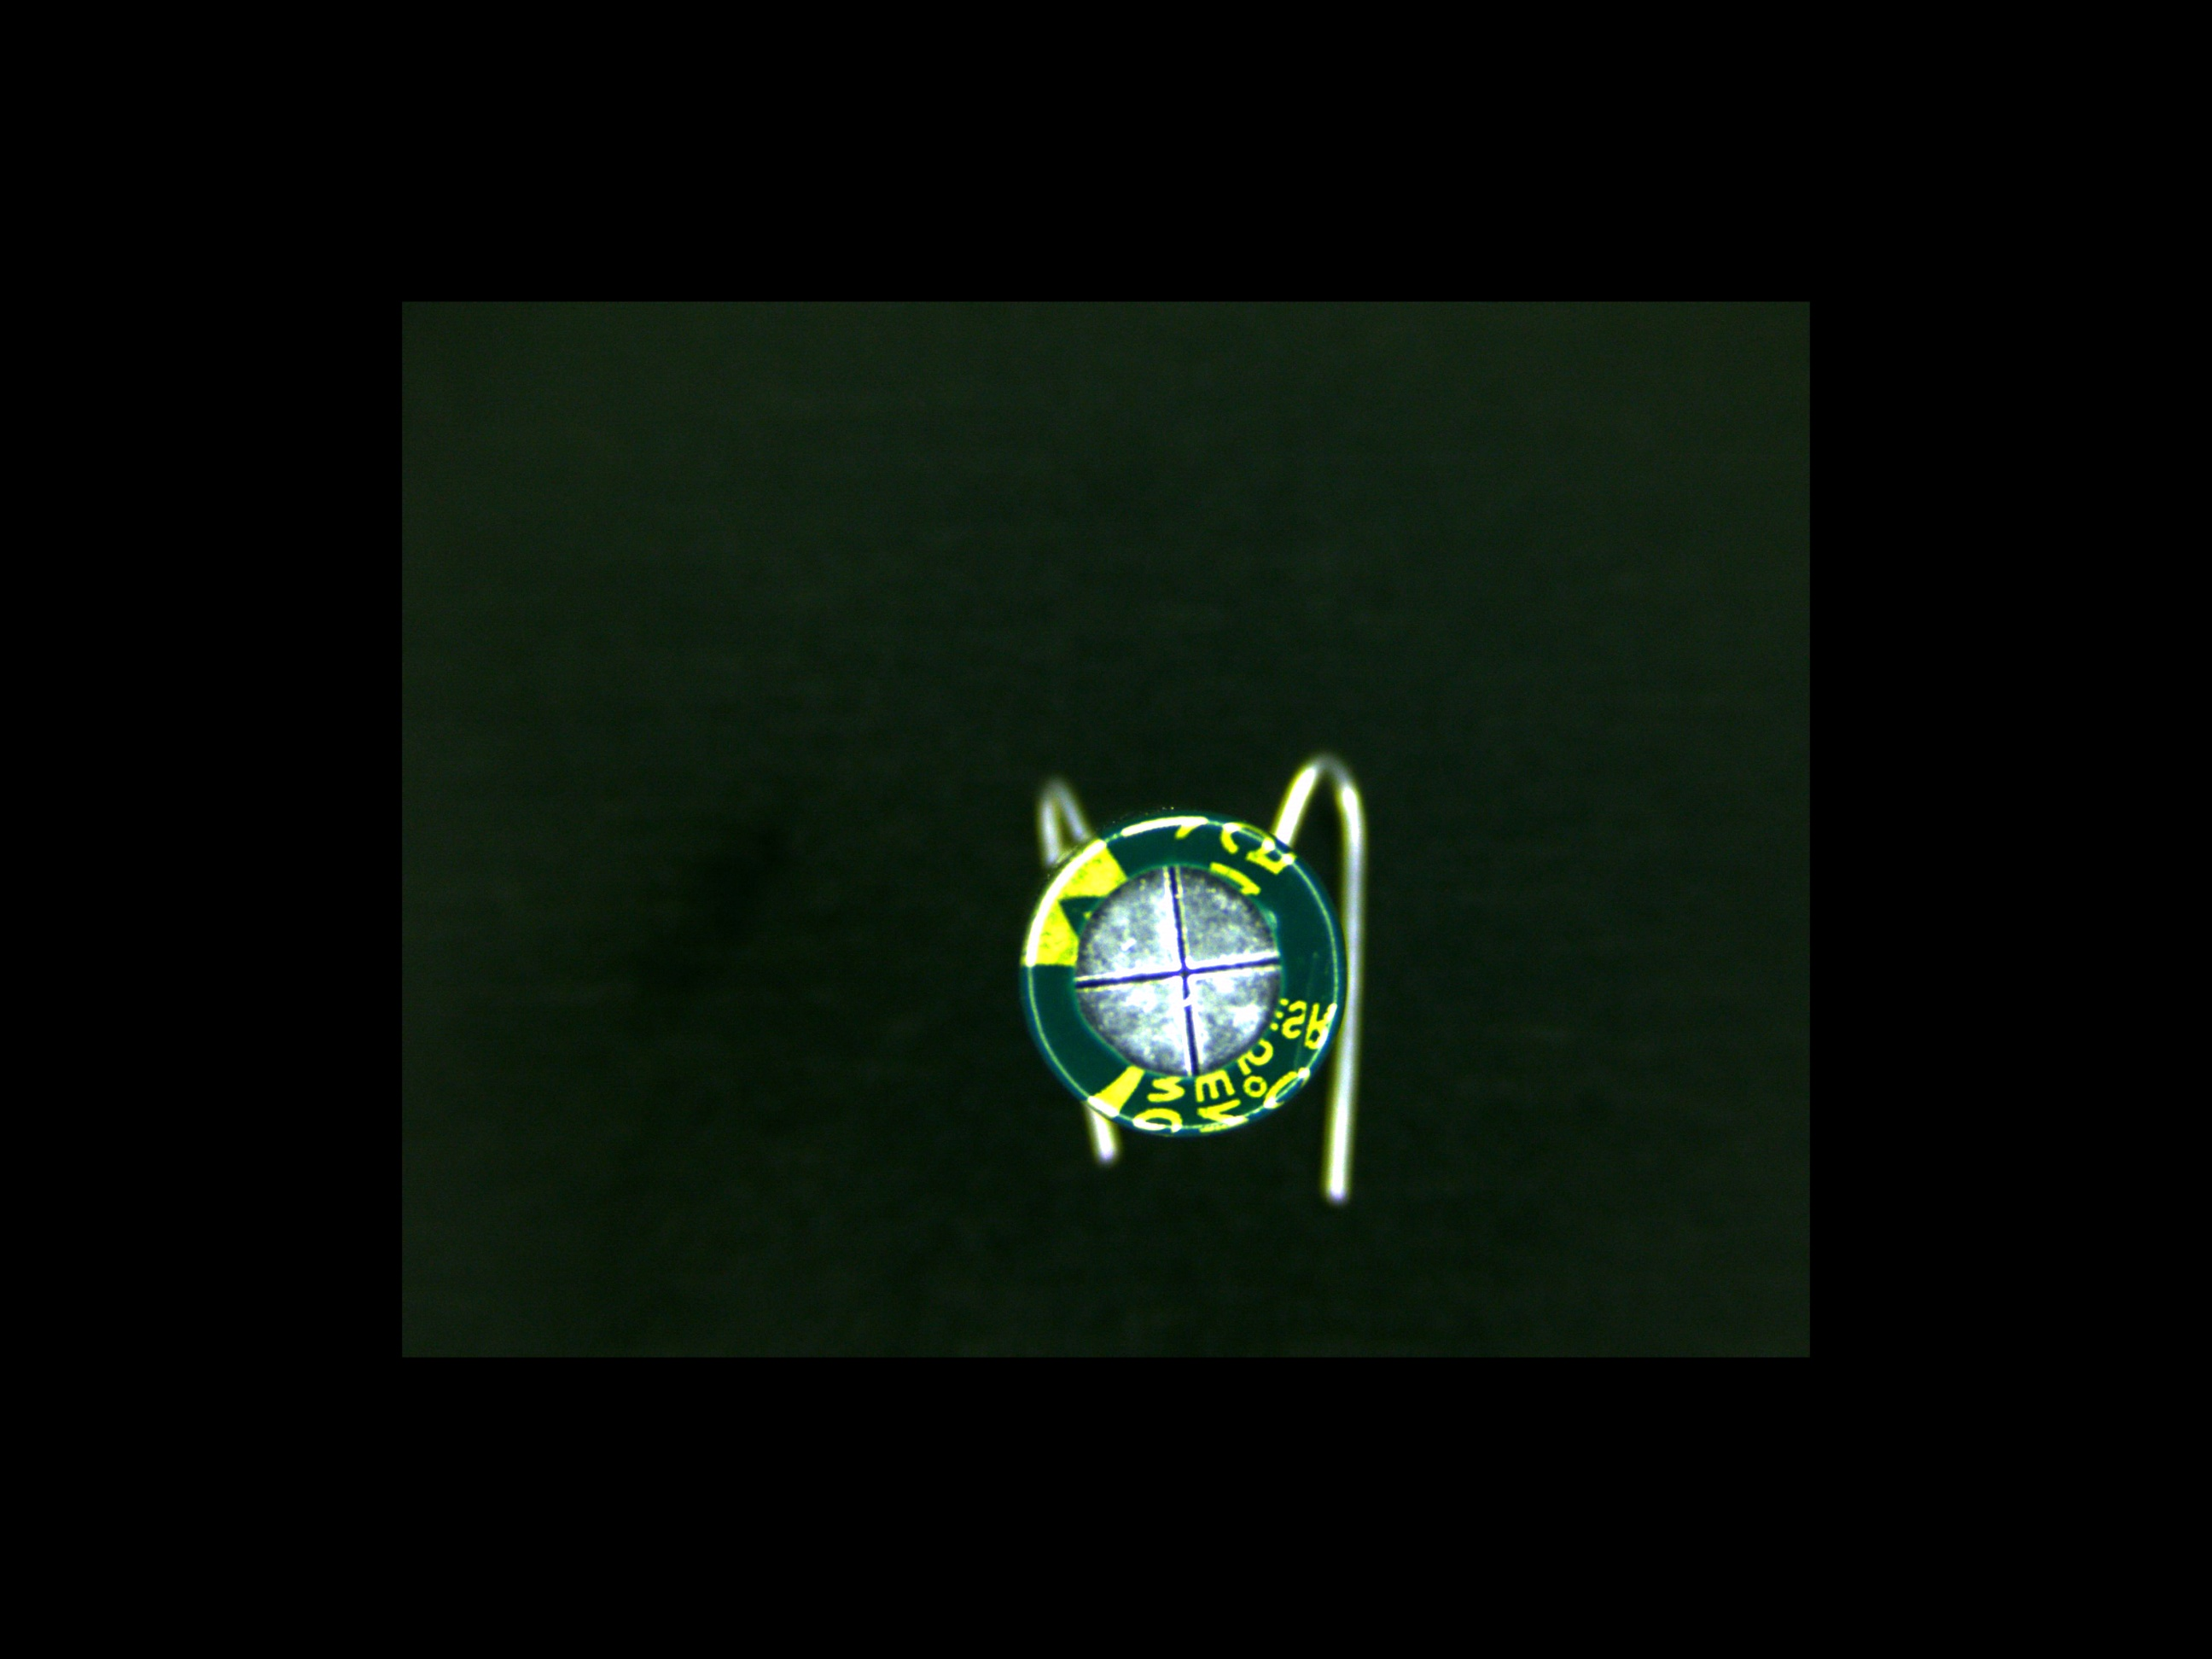c1: (1022, 810, 1348, 1138)
